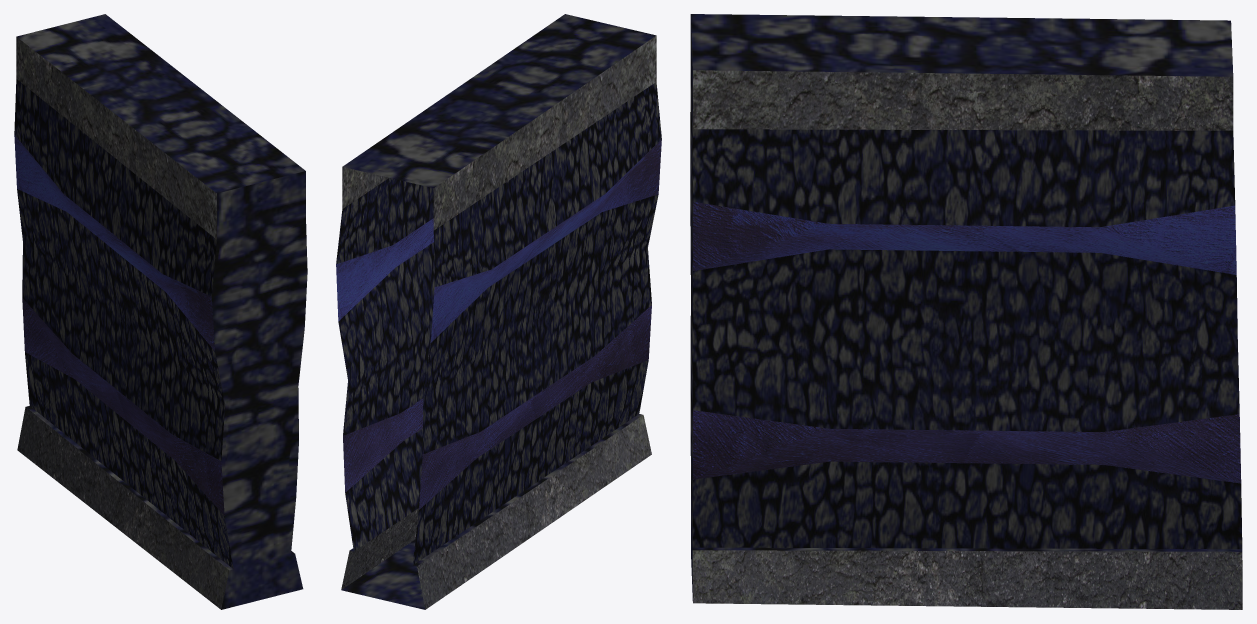
Rendered from Wall section small.fbx.
3 renders of one model, left to right at view 1: azimuth 30°, elevation 25°; view 2: azimuth 150°, elevation 25°; view 3: azimuth 270°, elevation 25°, orthographic. The views are drawn at different scales.
Visible parts, largest first — view 1: polySurface94; view 2: polySurface94; view 3: polySurface94.
Part boxes in pixels (x1,y1,x2,y2): polySurface94: [14, 14, 307, 609]; polySurface94: [336, 14, 661, 609]; polySurface94: [690, 14, 1242, 609].
Size of the model in its own units: 0.3257 by 1.17 by 1.1.
Materials: 3 (3 with a texture image).
